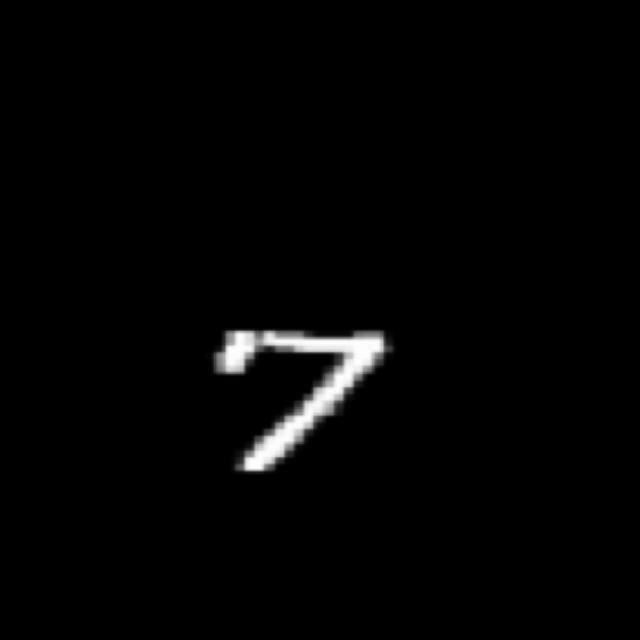seven -7-: (204, 318, 395, 482)
